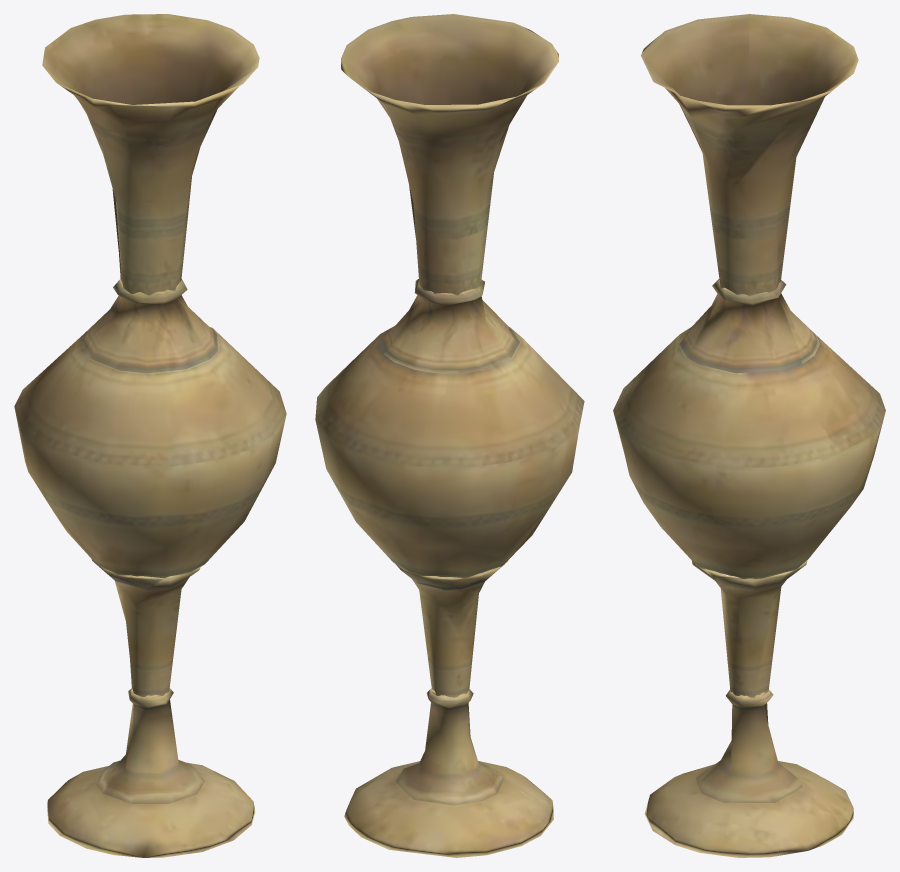
File: vase_brass.glb
3 renders of one model, left to right at view 1: azimuth 30°, elevation 25°; view 2: azimuth 150°, elevation 25°; view 3: azimuth 270°, elevation 25°, orthographic.
Visible parts, largest first — view 1: vase_brass; view 2: vase_brass; view 3: vase_brass.
Boxes of the visible parts, <box> form: vase_brass: <box>14,14,286,857</box>; vase_brass: <box>315,14,584,857</box>; vase_brass: <box>613,14,885,857</box>.
Size of the model in its own units: 0.2267 by 0.6925 by 0.2272.
1 material, 1 textured.
